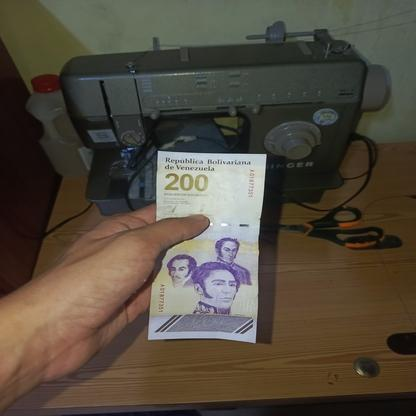two_hundred-front-vef: (147, 150, 266, 344)
